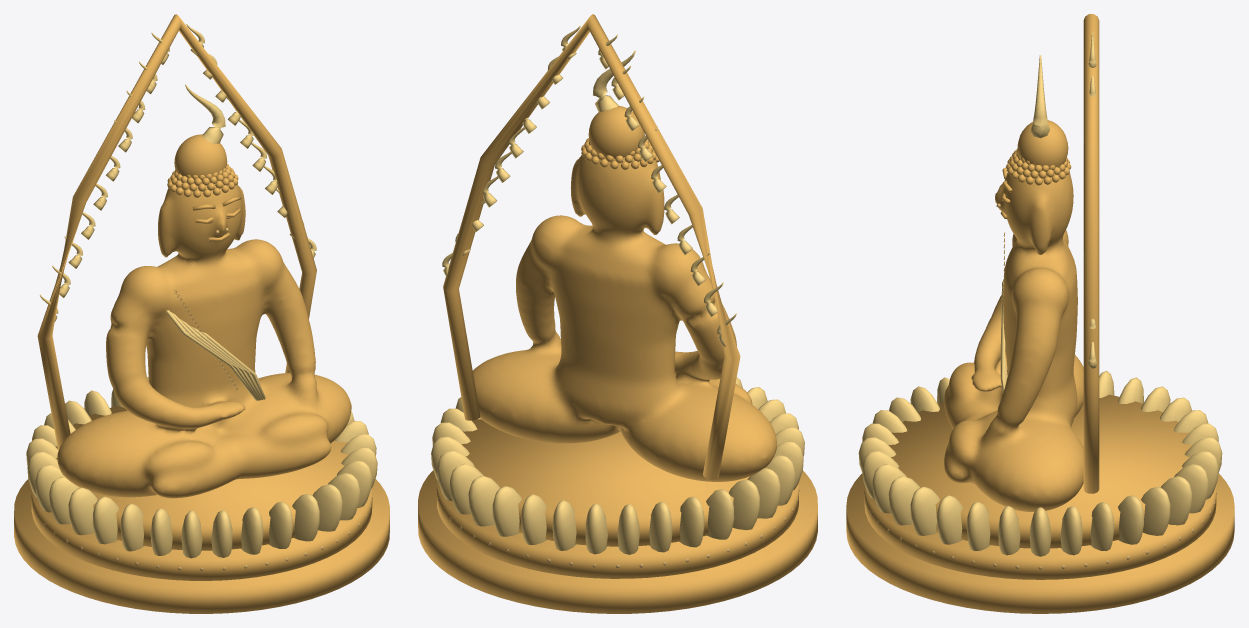
File: buddha-refined.glb
The picture shows the model from 3 angles, left to right: view 1: azimuth 30°, elevation 25°; view 2: azimuth 150°, elevation 25°; view 3: azimuth 270°, elevation 25°; orthographic projection. The views are drawn at different scales.
Visible parts, largest first — view 1: buddha / Antique warm gold, buddha / Raised gold ornament; view 2: buddha / Antique warm gold, buddha / Raised gold ornament; view 3: buddha / Antique warm gold, buddha / Raised gold ornament.
Boxes of the visible parts, box(x1,y1,x2,y2) form: buddha / Antique warm gold: box(14, 14, 389, 613); buddha / Raised gold ornament: box(26, 24, 377, 558); buddha / Antique warm gold: box(418, 14, 817, 613); buddha / Raised gold ornament: box(431, 25, 804, 554); buddha / Antique warm gold: box(846, 14, 1234, 613); buddha / Raised gold ornament: box(858, 32, 1222, 556).
Bounding box in the file's own units: 3.2 × 4.71 × 3.2.
